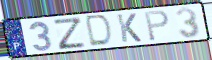3: (176, 6, 201, 40), (29, 20, 54, 53)
D: (85, 14, 114, 48)
K: (116, 12, 143, 43)
P: (143, 9, 170, 42)
Z: (52, 16, 87, 51)
